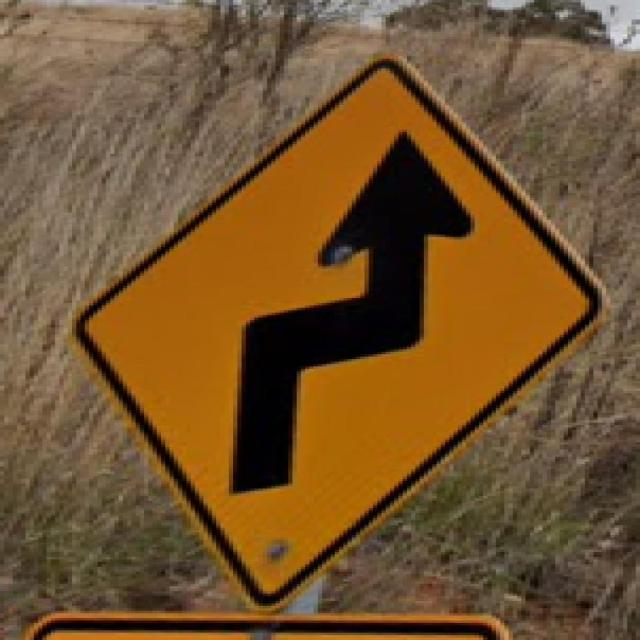Tikungan Ganda Pertama Ke Kanan: (51, 46, 610, 608)
